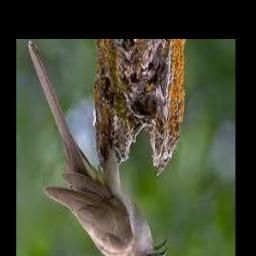Cuckoo: (28, 42, 169, 256)
